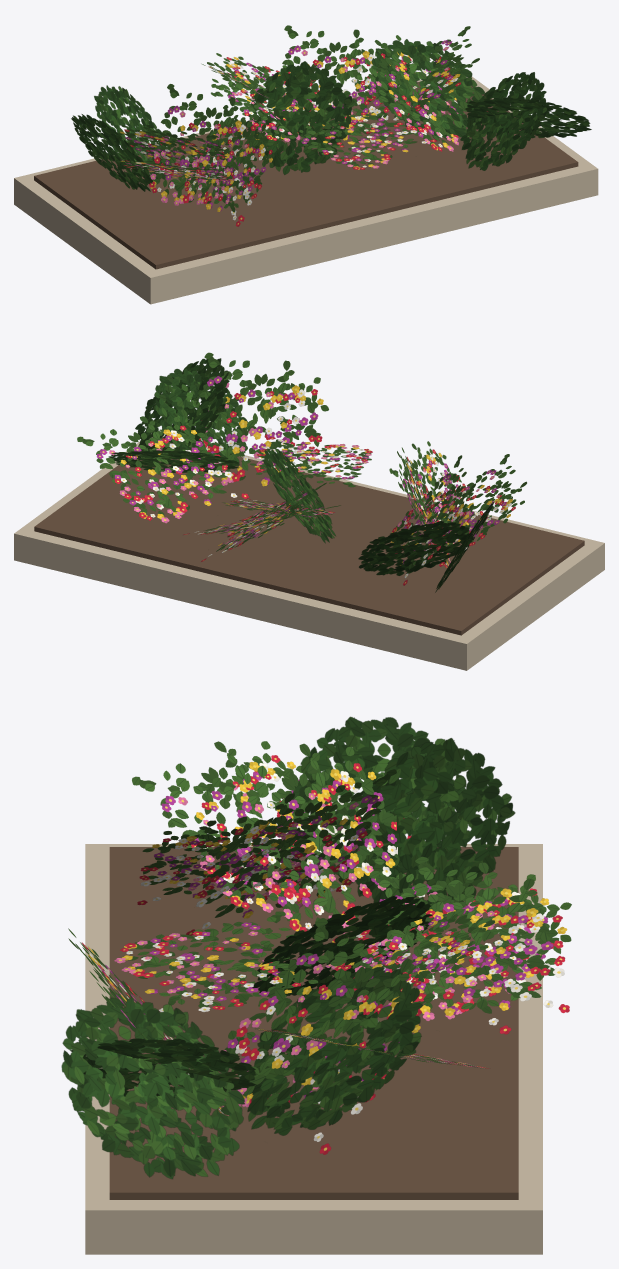
The model's file is flowerbed.glb.
3 views of the same model, one above another, from view 1: azimuth 30°, elevation 25°; view 2: azimuth 150°, elevation 25°; view 3: azimuth 270°, elevation 25° (orthographic). The views are drawn at different scales.
Parts seen in each view (by area): view 1: flowerbed; view 2: flowerbed; view 3: flowerbed.
Part boxes in pixels (x1,y1,x2,y2): flowerbed: (14, 25, 598, 304); flowerbed: (14, 352, 604, 670); flowerbed: (61, 716, 571, 1254).
Size of the model in its own units: 2.23 by 0.5743 by 1.45.
Materials: 4 (2 with a texture image).
